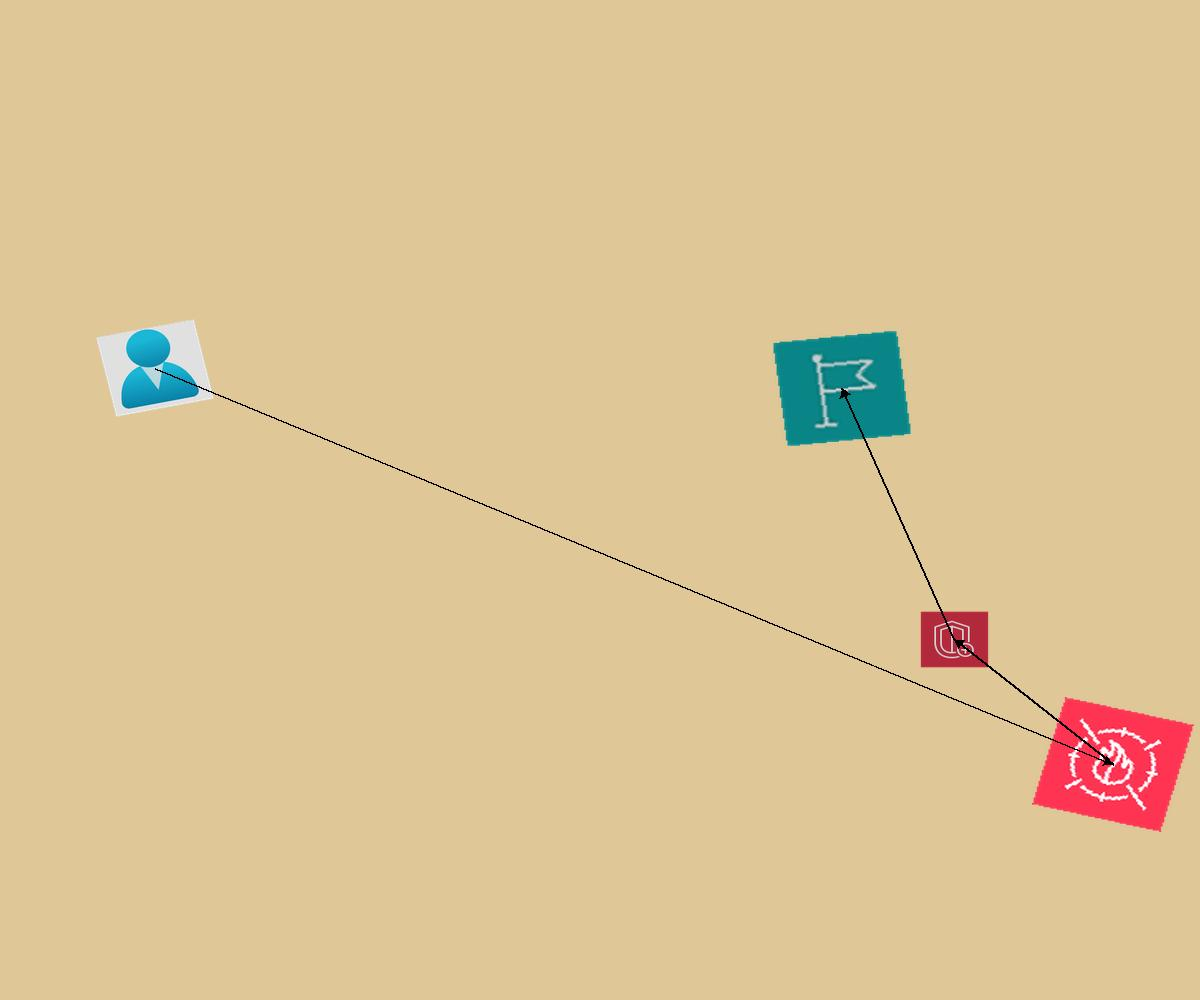AWS-Region: (772, 330, 912, 447)
AWS-Shield: (920, 611, 989, 668)
AWS-WAF: (1032, 697, 1194, 832)
Azure_users: (96, 319, 214, 417)
